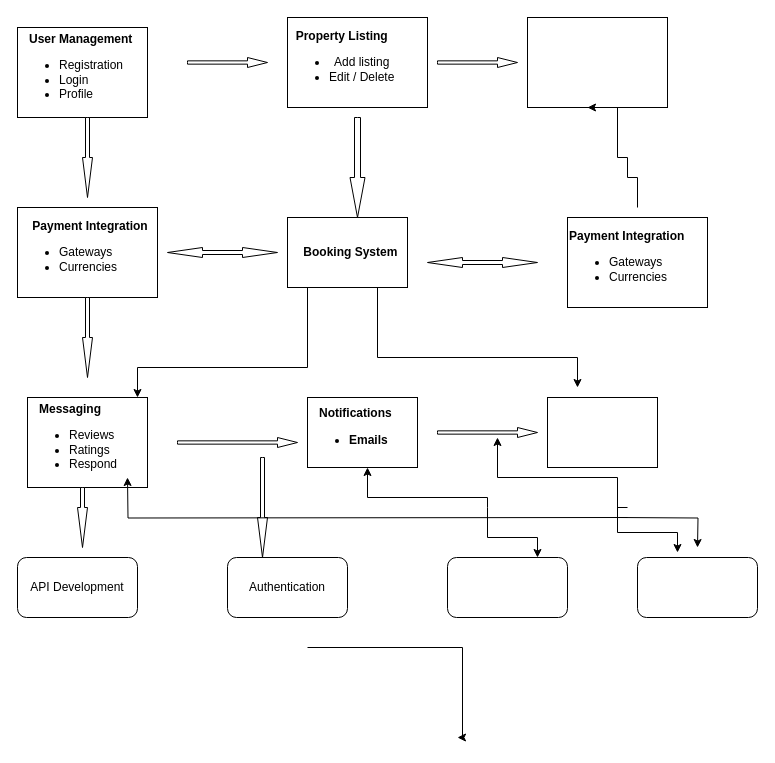
The diagram is 775 pixels wide and 763 high, and some of its shapes have lost their labels. Each missing label, with the box of its shape:
Admin Dashboard: (546, 396, 658, 468)
Booking System Booking creation Cancellation Status: (526, 16, 668, 108)
Database: (446, 556, 568, 618)
File Storage: (636, 556, 758, 618)
